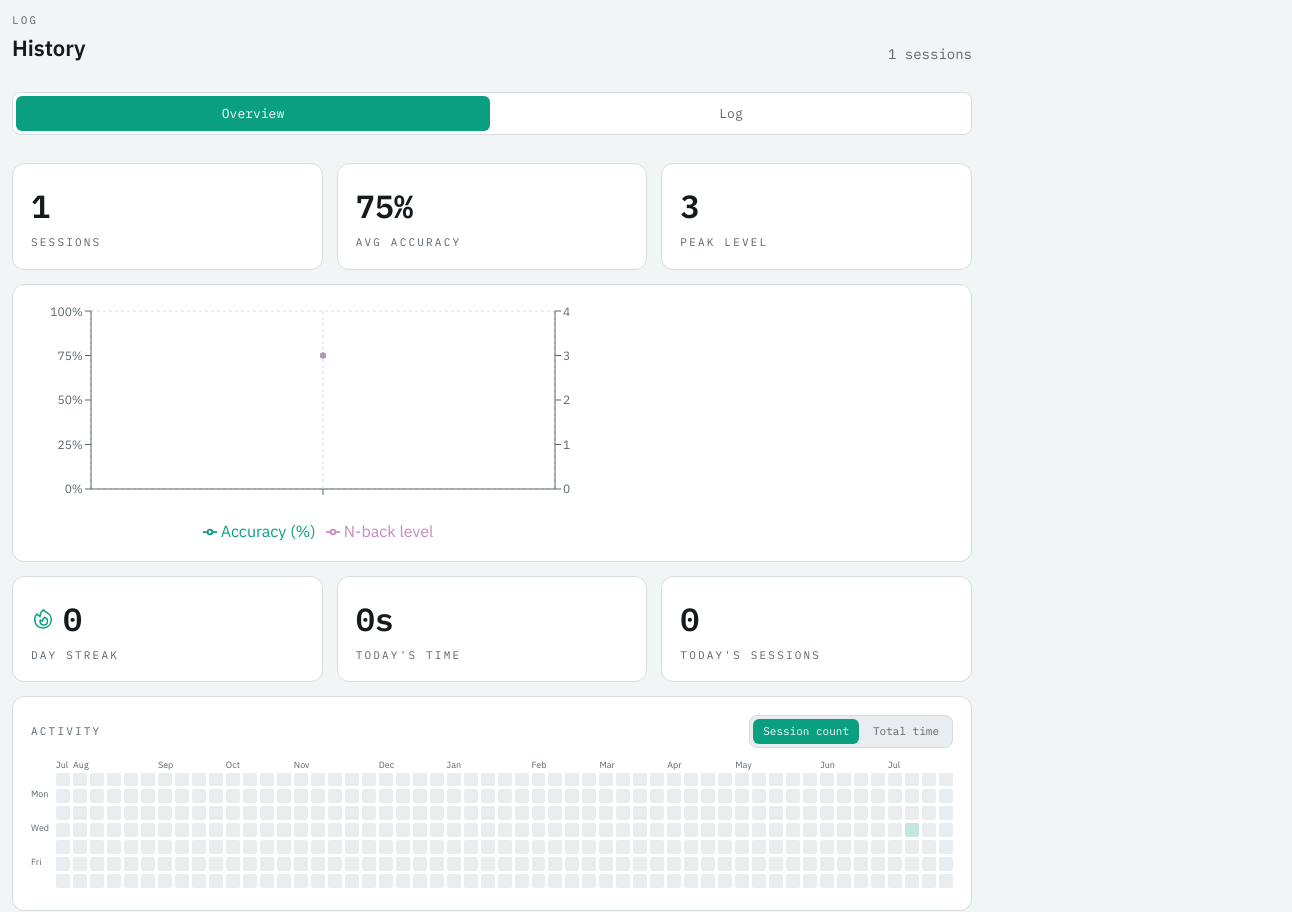
Test: HistoryView › shows the session trial count, not the per-stream judged-slot total
The image size is (1292, 912).
Click the tab "Log": (731, 113) [494,96,968,131]
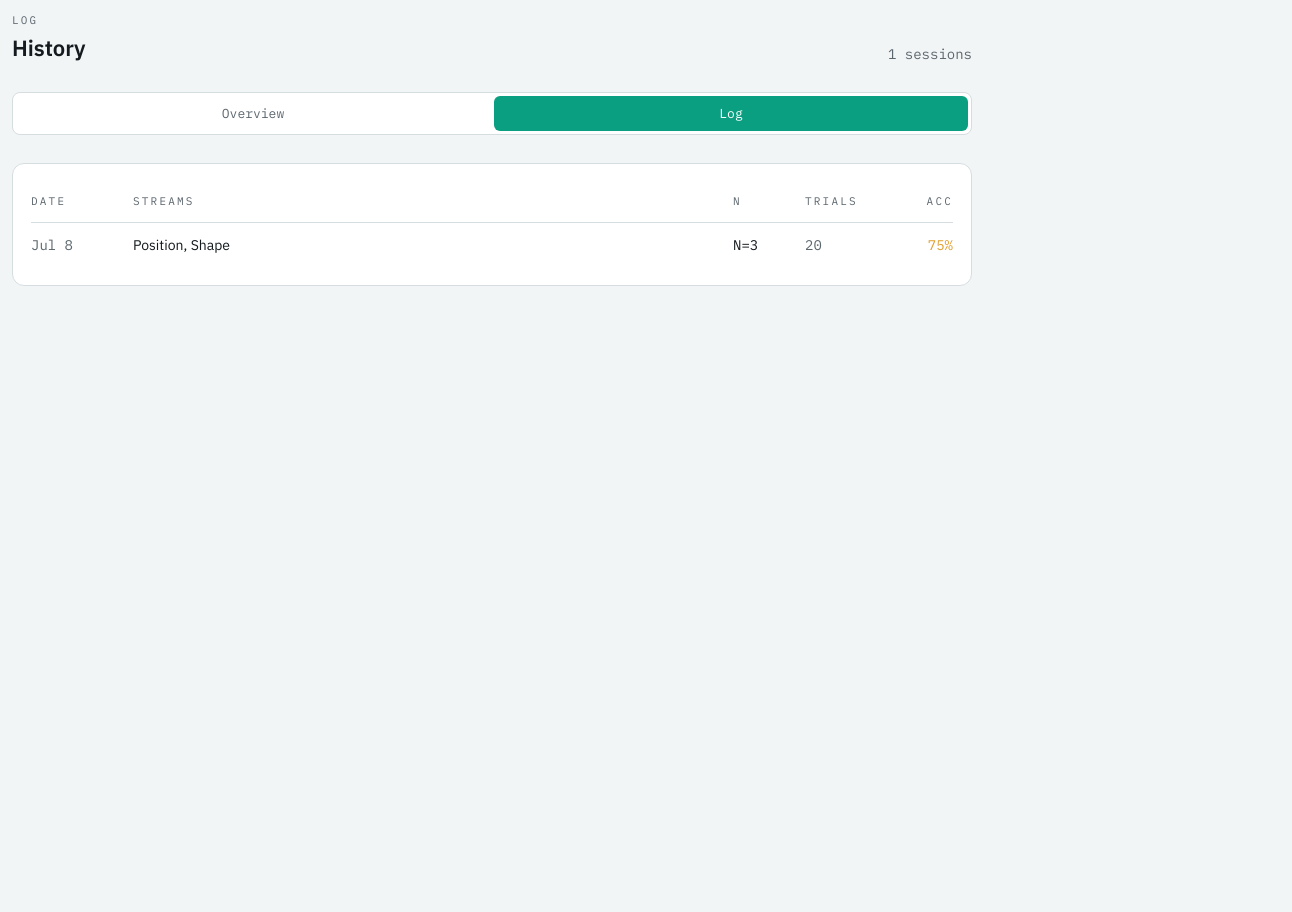
Now the text "20" is shown, box [805,236,822,254]
